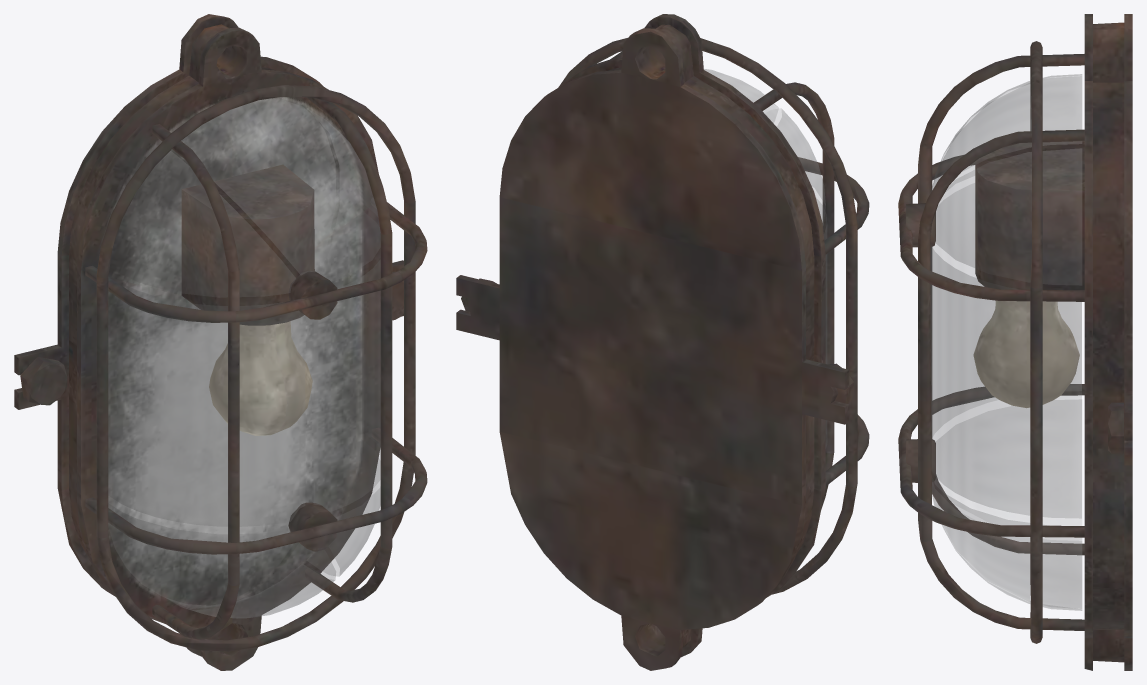
Rendered from bulkhead.glb.
The picture shows the model from 3 angles, left to right: view 1: azimuth 30°, elevation 25°; view 2: azimuth 150°, elevation 25°; view 3: azimuth 270°, elevation 25°; orthographic projection.
Parts seen in each view (by area): view 1: industrial_wall_lamp; view 2: industrial_wall_lamp; view 3: industrial_wall_lamp.
Part boxes in pixels (bbox=[...]): industrial_wall_lamp: bbox=[14, 14, 427, 670]; industrial_wall_lamp: bbox=[456, 14, 869, 670]; industrial_wall_lamp: bbox=[898, 14, 1132, 670].
Bounding box in the file's own units: 0.2734 × 0.4299 × 0.1404.
Materials: 2 (2 with a texture image).
